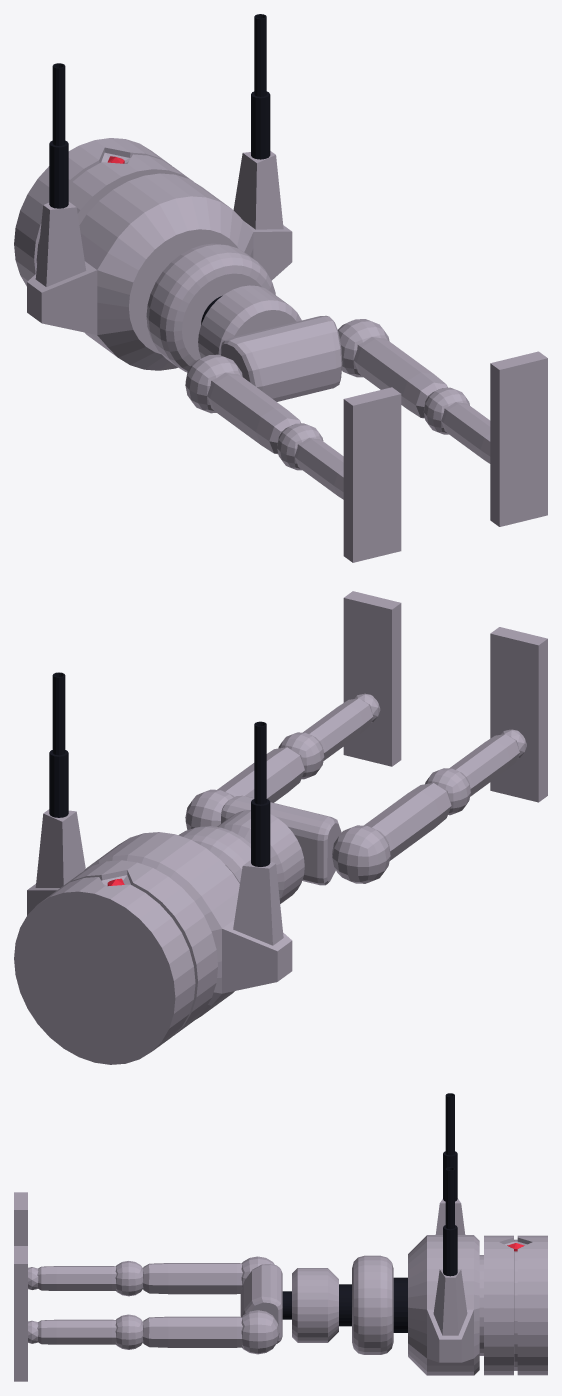
Rendered from cylinder-shooter-robot-no-rig.fbx.
The picture shows the model from 3 angles, top to bottom: view 1: azimuth 30°, elevation 25°; view 2: azimuth 150°, elevation 25°; view 3: azimuth 270°, elevation 25°; orthographic projection. The views are drawn at different scales.
Parts seen in each view (by area): view 1: spine.004, foot.R.001, foot.L.001, spine.005, pelvis.001, head.001, thigh.R.001, thigh.L.001, spine.006, shin.L.001, shin.R.001; view 2: head.001, spine.004, foot.L.001, foot.R.001, thigh.R.001, thigh.L.001, pelvis.001, shin.L.001, shin.R.001, spine.006, spine.005; view 3: spine.004, head.001, spine.005, thigh.L.001, spine.006, thigh.R.001, shin.L.001, shin.R.001, pelvis.001, foot.L.001, foot.R.001.
Part boxes in pixels (left/top/right/bottom): spine.004: left=27, top=14, right=292, bottom=370; foot.R.001: left=343, top=387, right=401, bottom=562; foot.L.001: left=490, top=351, right=547, bottom=526; spine.005: left=146, top=243, right=275, bottom=372; pelvis.001: left=221, top=315, right=342, bottom=401; head.001: left=14, top=138, right=193, bottom=286; thigh.R.001: left=185, top=354, right=301, bottom=454; thigh.L.001: left=338, top=319, right=447, bottom=418; spine.006: left=198, top=285, right=301, bottom=358; shin.L.001: left=423, top=387, right=490, bottom=463; shin.R.001: left=277, top=423, right=343, bottom=499; head.001: left=14, top=860, right=217, bottom=1064; spine.004: left=27, top=672, right=292, bottom=1019; foot.L.001: left=343, top=591, right=401, bottom=766; foot.R.001: left=490, top=627, right=547, bottom=802; thigh.R.001: left=332, top=783, right=451, bottom=883; thigh.L.001: left=185, top=747, right=304, bottom=829; pelvis.001: left=221, top=795, right=341, bottom=885; shin.L.001: left=278, top=698, right=373, bottom=779; shin.R.001: left=425, top=734, right=519, bottom=815; spine.006: left=217, top=810, right=304, bottom=903; spine.005: left=178, top=826, right=250, bottom=883; spine.004: left=408, top=1093, right=483, bottom=1375; head.001: left=484, top=1235, right=547, bottom=1375; spine.005: left=352, top=1255, right=407, bottom=1354; thigh.L.001: left=142, top=1310, right=279, bottom=1354; spine.006: left=292, top=1268, right=351, bottom=1342; thigh.R.001: left=142, top=1256, right=274, bottom=1294; shin.L.001: left=37, top=1314, right=143, bottom=1349; shin.R.001: left=37, top=1261, right=143, bottom=1296; pelvis.001: left=240, top=1263, right=291, bottom=1343; foot.L.001: left=14, top=1246, right=38, bottom=1381; foot.R.001: left=14, top=1192, right=38, bottom=1289.
Size of the model in its own units: 86.36 by 104 by 212.
Materials: 1 (1 with a texture image).
